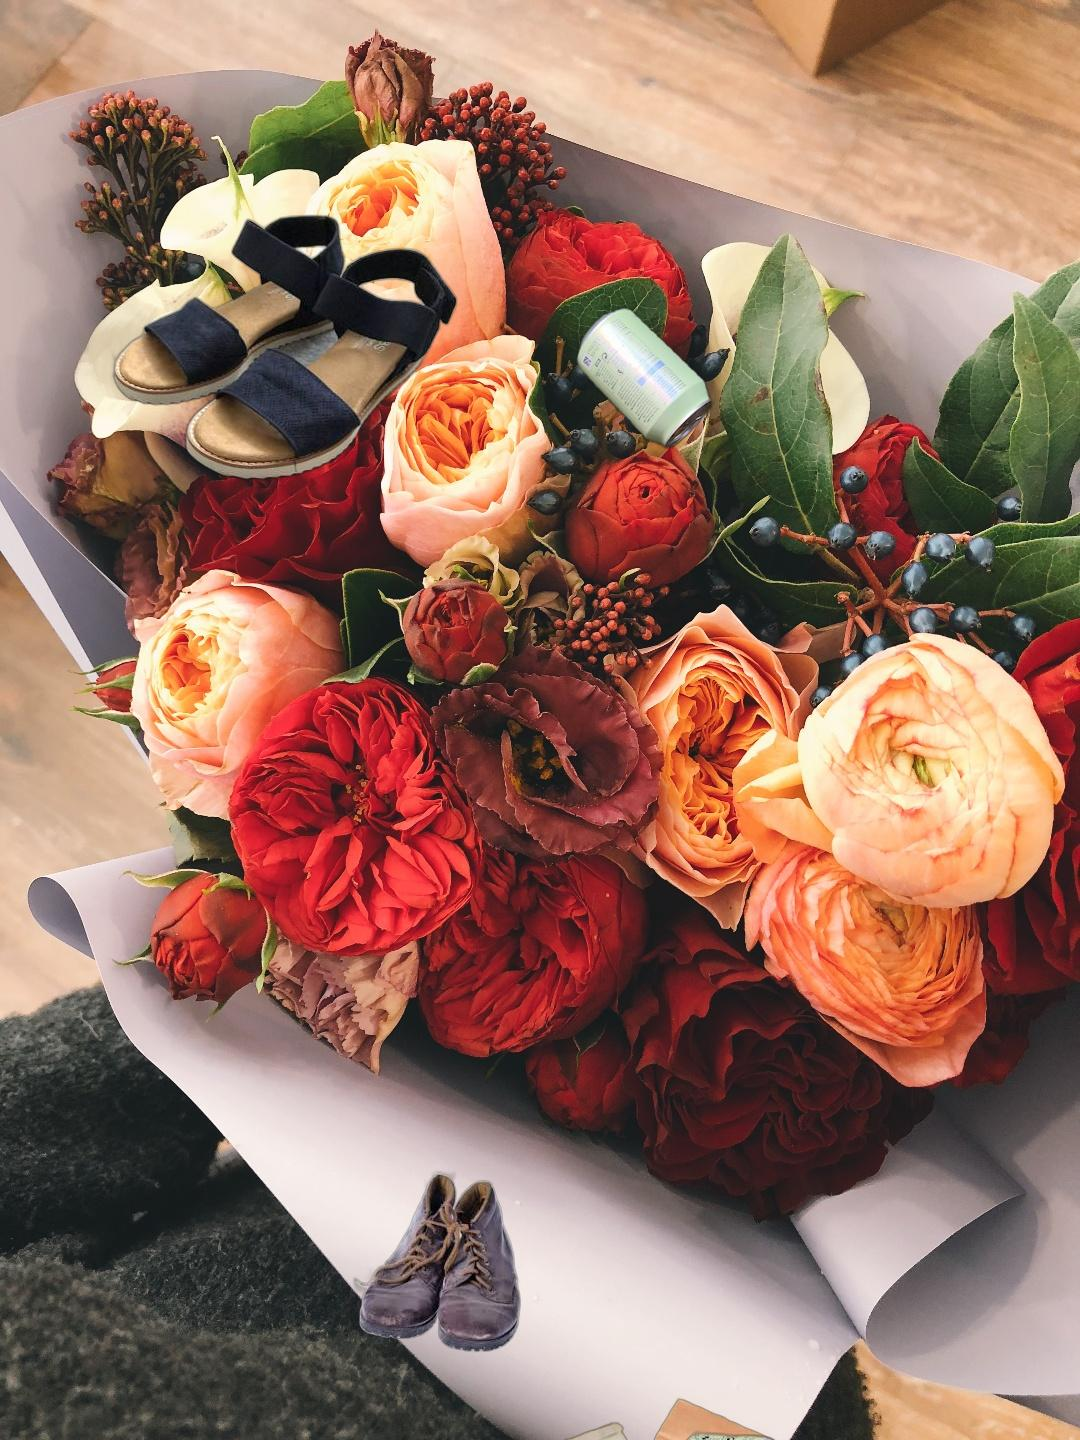metal-cans: (299, 300, 811, 871), (413, 1117, 925, 1440)
paper-bag: (560, 1396, 808, 1440)
shoes: (109, 210, 459, 484), (351, 1168, 523, 1355)
